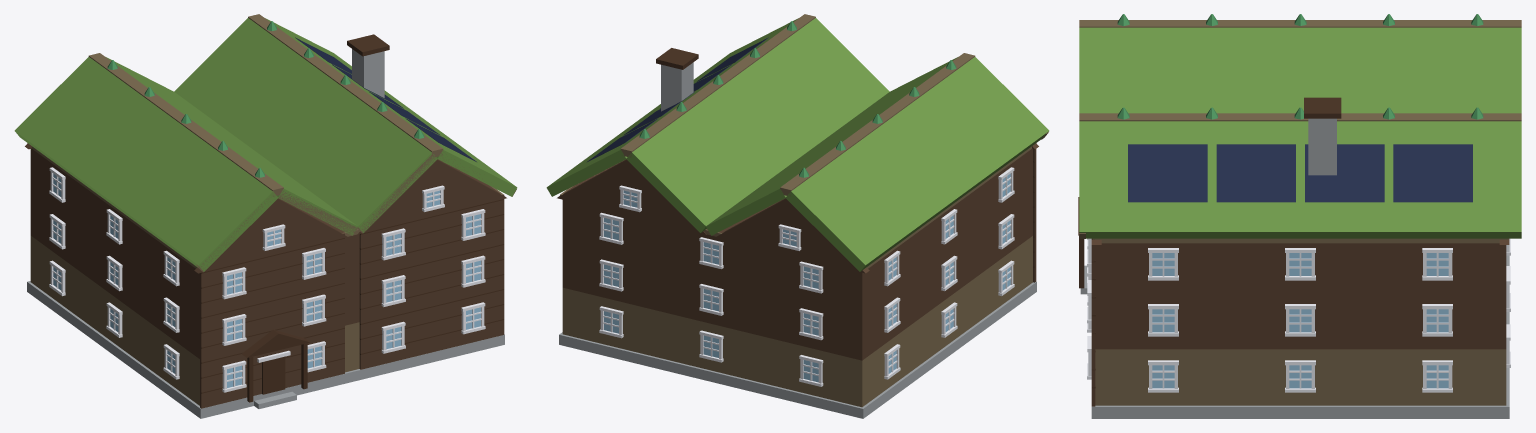
The model's file is house-2x2-3f-turf-a-solar.glb.
The picture shows the model from 3 angles, left to right: view 1: azimuth 30°, elevation 25°; view 2: azimuth 150°, elevation 25°; view 3: azimuth 270°, elevation 25°; orthographic projection. The views are drawn at different scales.
Parts seen in each view (by area): view 1: house-2x2-3f-turf-a-solar; view 2: house-2x2-3f-turf-a-solar; view 3: house-2x2-3f-turf-a-solar.
Boxes of the visible parts, bbox=[...] form: house-2x2-3f-turf-a-solar: bbox=[14, 14, 517, 418]; house-2x2-3f-turf-a-solar: bbox=[546, 14, 1049, 418]; house-2x2-3f-turf-a-solar: bbox=[1078, 14, 1521, 418].
Size of the model in its own units: 2 by 1.45 by 2.
1 material, 1 textured.
